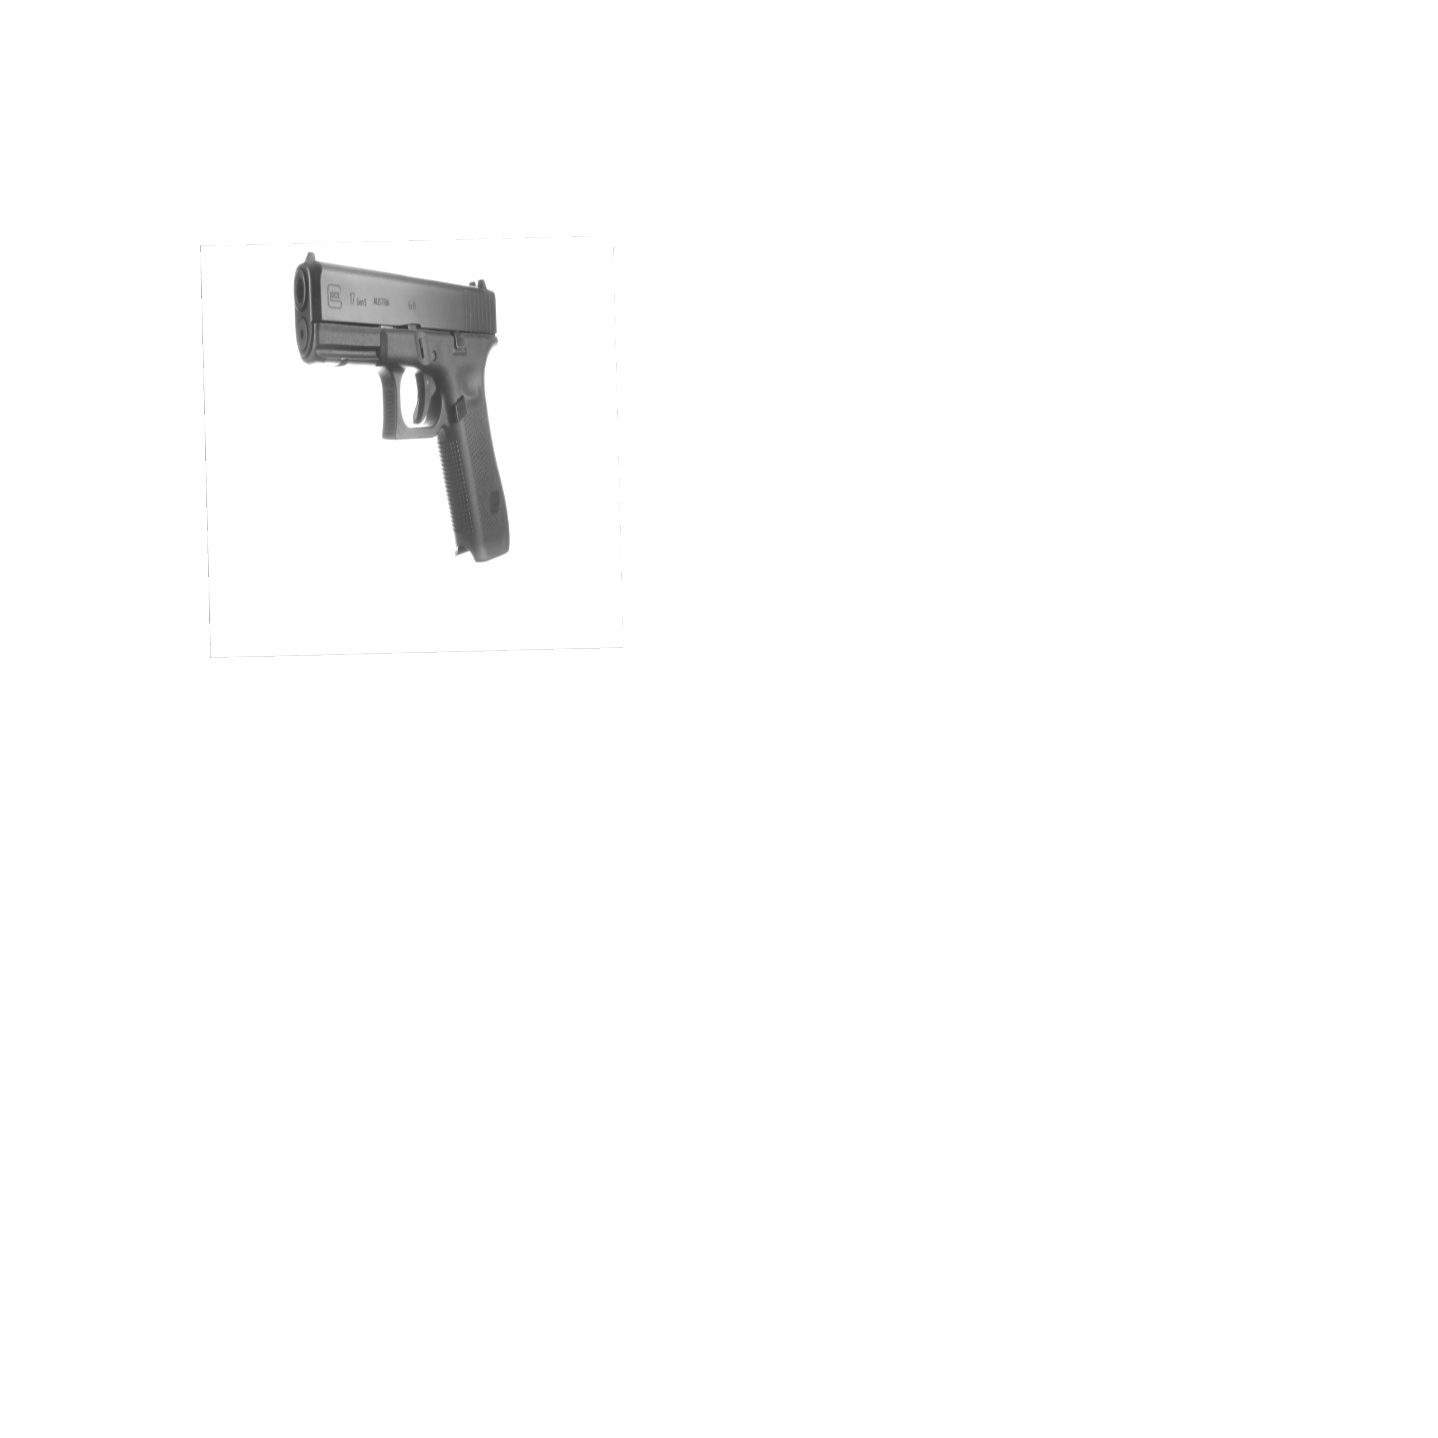gun: (288, 252, 516, 566)
